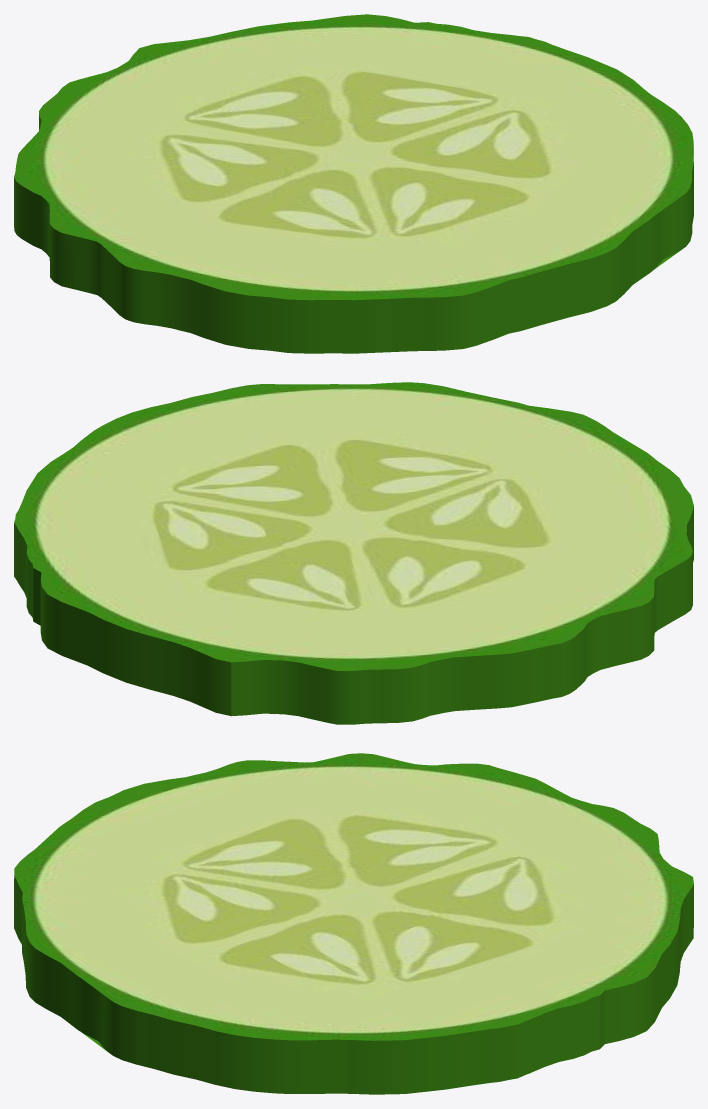
The model's file is Cucumber.fbx.
The picture shows the model from 3 angles, top to bottom: view 1: azimuth 30°, elevation 25°; view 2: azimuth 150°, elevation 25°; view 3: azimuth 270°, elevation 25°; orthographic projection.
Parts seen in each view (by area): view 1: cucumber.058; view 2: cucumber.058; view 3: cucumber.058.
Boxes of the visible parts, left/top/right/bottom form: cucumber.058: left=14, top=14, right=693, bottom=353; cucumber.058: left=14, top=382, right=693, bottom=724; cucumber.058: left=14, top=753, right=693, bottom=1094.
Size of the model in its own units: 77.01 by 6.99 by 76.72.
